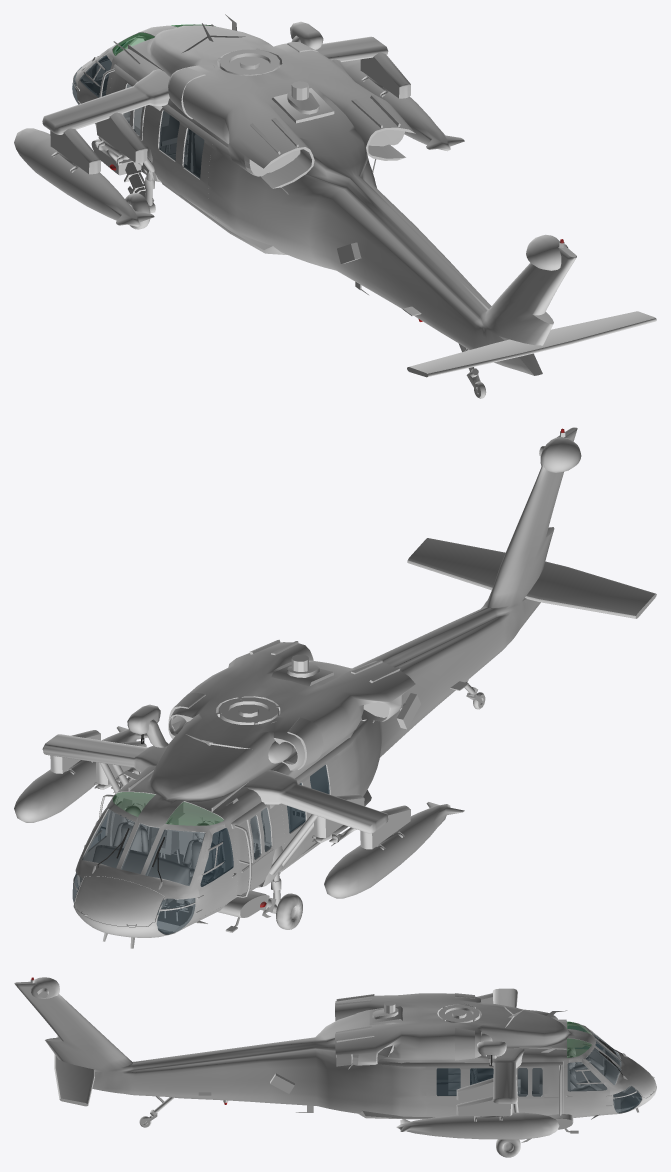
File: Helicoptero.obj
3 views of the same model, one above another, from view 1: azimuth 30°, elevation 25°; view 2: azimuth 150°, elevation 25°; view 3: azimuth 270°, elevation 25° (orthographic). The views are drawn at different scales.
Parts seen in each view (by area): view 1: fuselage, Door_L, elevator, main_rotor, cabinDoor_L; view 2: fuselage, elevator, cabinDoor_L, Door_L, pilot, main_rotor, Tyre_L; view 3: fuselage, Door_R, cabinDoor_R, elevator, main_rotor, pilot, Window_R2, window_R1, tyre_R, cabinDoor_L.
Boxes of the visible parts, x1=… form: fuselage: x1=14, y1=14, x2=576, y2=392; Door_L: x1=153, y1=107, x2=215, y2=217; elevator: x1=407, y1=311, x2=656, y2=377; main_rotor: x1=218, y1=48, x2=281, y2=75; cabinDoor_L: x1=76, y1=51, x2=115, y2=125; fuselage: x1=14, y1=427, x2=581, y2=948; elevator: x1=407, y1=538, x2=656, y2=618; cabinDoor_L: x1=193, y1=822, x2=237, y2=921; Door_L: x1=281, y1=756, x2=338, y2=868; pilot: x1=113, y1=805, x2=218, y2=909; main_rotor: x1=216, y1=696, x2=279, y2=724; Tyre_L: x1=276, y1=893, x2=302, y2=929; fuselage: x1=14, y1=977, x2=656, y2=1142; Door_R: x1=426, y1=1066, x2=493, y2=1117; cabinDoor_R: x1=563, y1=1058, x2=611, y2=1114; elevator: x1=54, y1=1035, x2=94, y2=1106; main_rotor: x1=438, y1=1005, x2=479, y2=1022; pilot: x1=567, y1=1047, x2=603, y2=1090; Window_R2: x1=529, y1=1066, x2=544, y2=1097; window_R1: x1=516, y1=1066, x2=529, y2=1097; tyre_R: x1=496, y1=1139, x2=520, y2=1157; cabinDoor_L: x1=567, y1=1024, x2=603, y2=1066.
Size of the model in its own units: 6.8 by 4.24 by 16.07.
